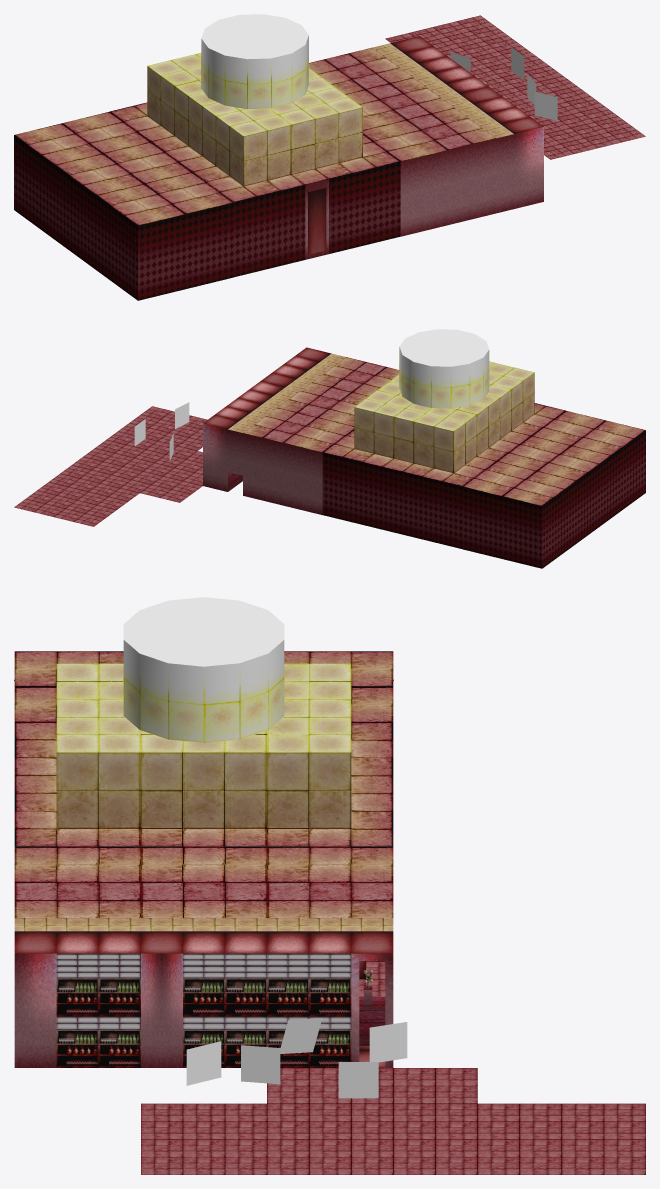
Rendered from bar.obj.
The picture shows the model from 3 angles, top to bottom: view 1: azimuth 30°, elevation 25°; view 2: azimuth 150°, elevation 25°; view 3: azimuth 270°, elevation 25°; orthographic projection. The views are drawn at different scales.
Visible parts, largest first — view 1: mesh_2, mesh_1, mesh_1.4, mesh_0, Объект_Плоскость;order=post; view 2: mesh_2, mesh_1, mesh_1.4, mesh_0; view 3: mesh_2, mesh_0, mesh_1.4, mesh_1, Объект_Плоскость.2;order=post, Объект_Плоскость.1;order=post, maxx;order=post, Объект_Плоскость;order=post, Объект_Плоскость.3;order=post.
Boxes of the visible parts, box(x1,y1,x2,y2) form: mesh_2: box(14, 14, 400, 300); mesh_1: box(309, 43, 514, 236); mesh_1.4: box(385, 15, 645, 159); mesh_0: box(390, 36, 543, 208); Объект_Плоскость;order=post: box(535, 91, 557, 120); mesh_2: box(322, 329, 645, 568); mesh_1: box(228, 353, 399, 514); mesh_1.4: box(14, 406, 207, 526); mesh_0: box(203, 347, 331, 491); mesh_2: box(14, 597, 393, 961); mesh_0: box(14, 931, 393, 1067); mesh_1.4: box(141, 1068, 645, 1174); mesh_1: box(14, 847, 393, 1009); Объект_Плоскость.2;order=post: box(338, 1062, 378, 1098); Объект_Плоскость.1;order=post: box(241, 1045, 280, 1084); maxx;order=post: box(369, 1022, 407, 1062); Объект_Плоскость;order=post: box(186, 1041, 221, 1085); Объект_Плоскость.3;order=post: box(280, 1018, 322, 1053).
Bounding box in the file's own units: 2416 × 736 × 1576.
